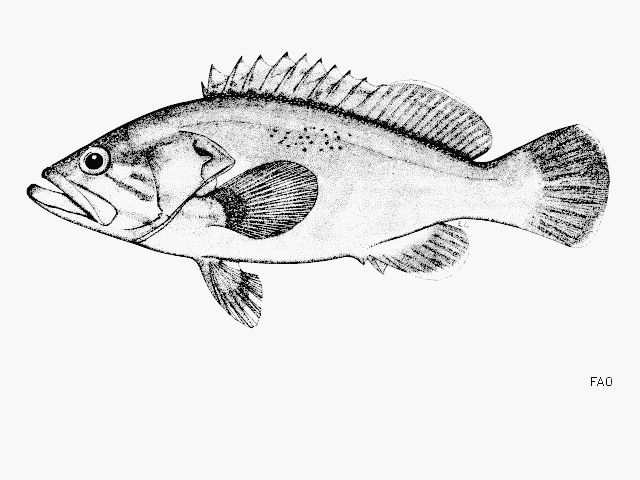fish: (27, 52, 610, 328)
